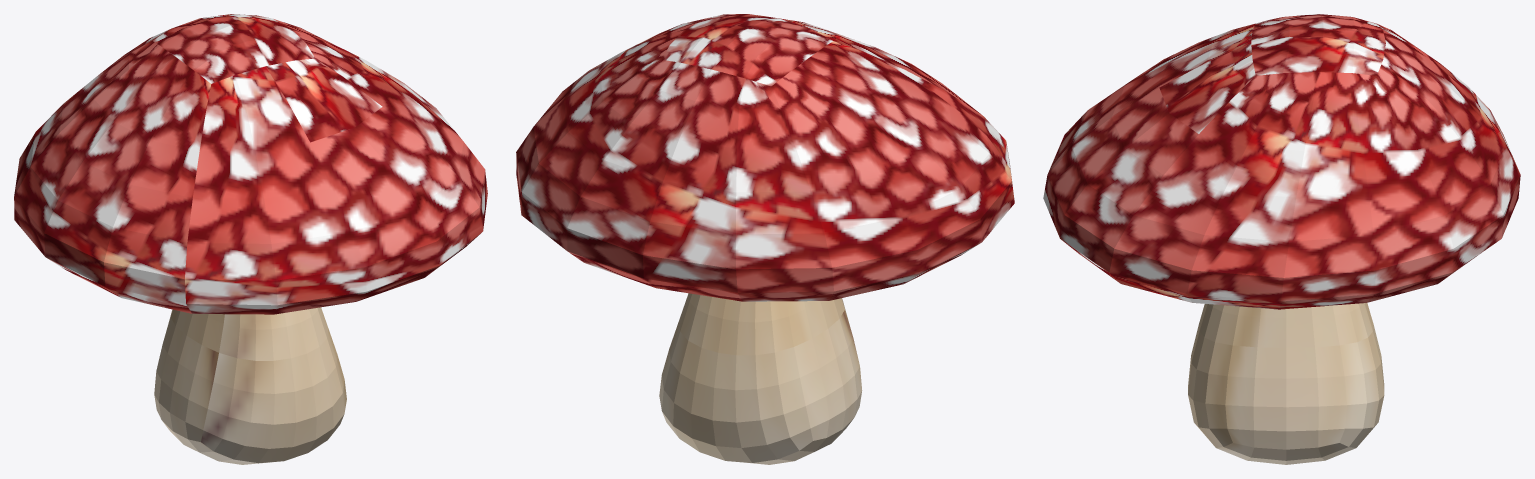
Rendered from Red mushroom 1.fbx.
3 views of the same model, side by side, from view 1: azimuth 30°, elevation 25°; view 2: azimuth 150°, elevation 25°; view 3: azimuth 270°, elevation 25° (orthographic). The views are drawn at different scales.
Visible parts, largest first — view 1: Red mushroom 1; view 2: Red mushroom 1; view 3: Red mushroom 1.
Boxes of the visible parts, x1=… form: Red mushroom 1: x1=14, y1=14, x2=487, y2=464; Red mushroom 1: x1=516, y1=14, x2=1014, y2=464; Red mushroom 1: x1=1043, y1=14, x2=1520, y2=464.
Size of the model in its own units: 867 by 832 by 848.
Materials: 2 (2 with a texture image).
